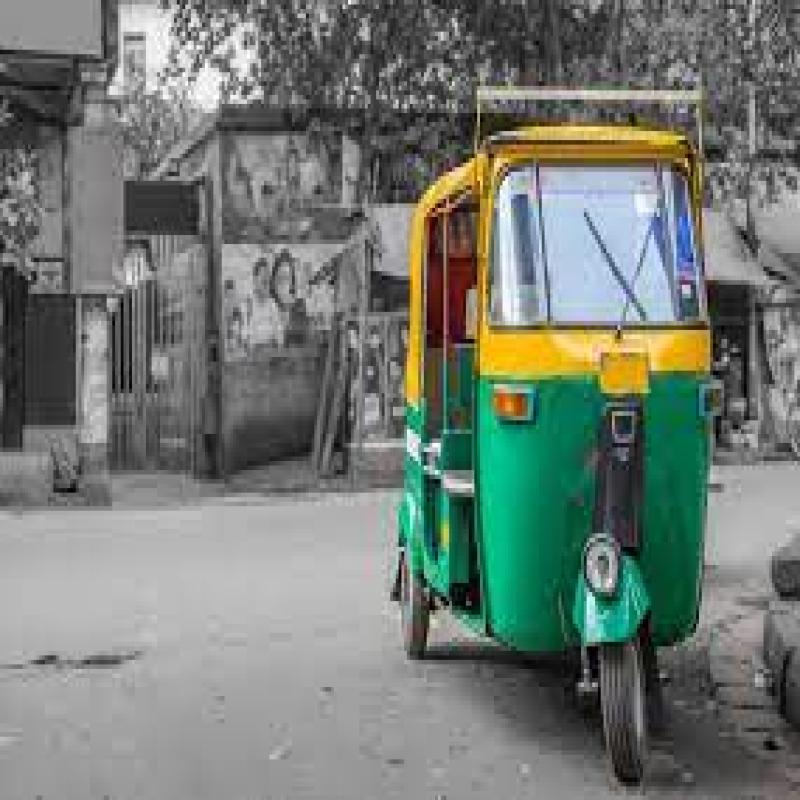auto: (373, 95, 727, 800)
